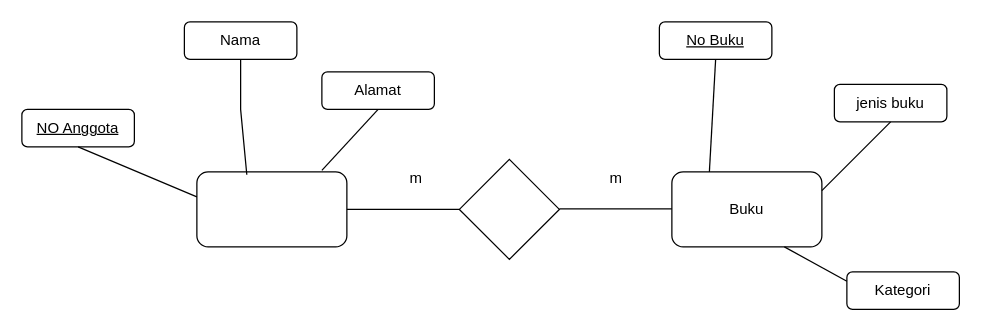
Image size: 981x331. Some labels were removed from this diagram. Here are the shapes that lost their labels. From the top down, the centre of each, then its label:
[271,209]: Anggota
[508,208]: Meminjam
